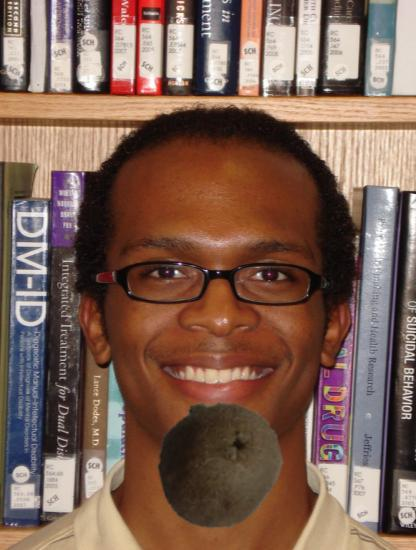Kiwi: (156, 401, 284, 529)
